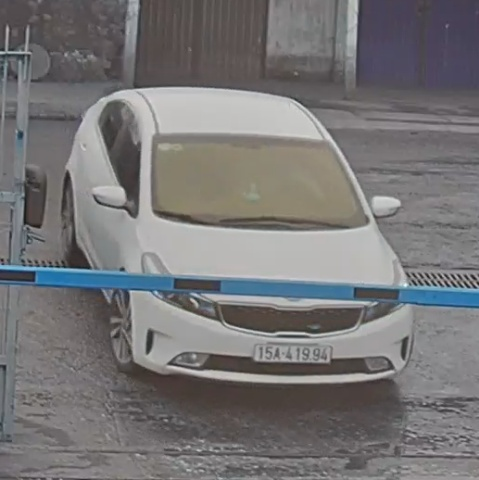vehicle plate: (251, 338, 340, 368)
